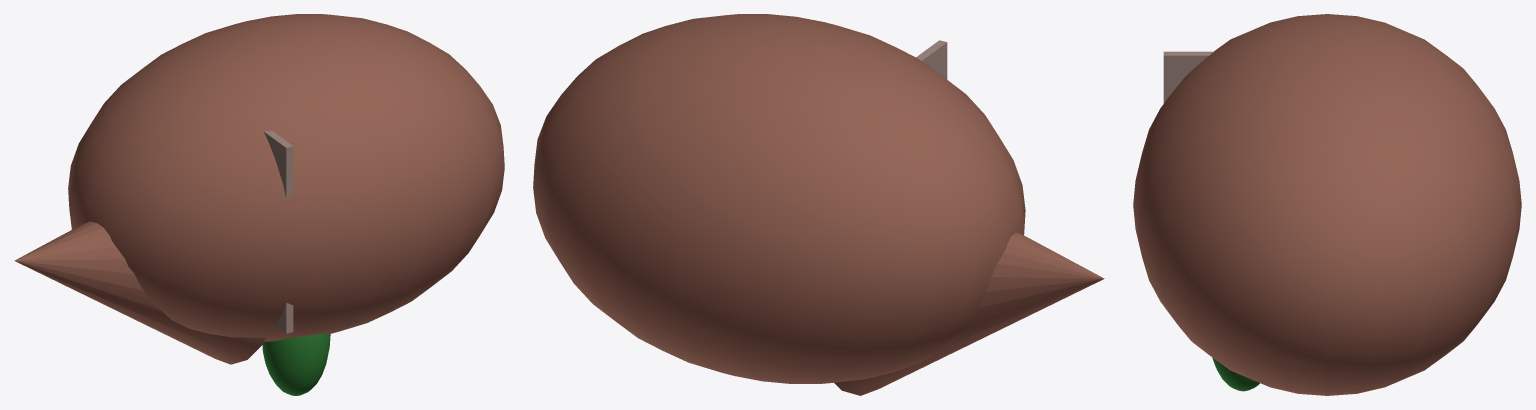
File: liver.glb
3 renders of one model, left to right at view 1: azimuth 30°, elevation 25°; view 2: azimuth 150°, elevation 25°; view 3: azimuth 270°, elevation 25°, orthographic. The views are drawn at different scales.
Visible parts, largest first — view 1: HumanLiver; view 2: HumanLiver; view 3: HumanLiver.
Part boxes in pixels (left/top/right/bottom): HumanLiver: left=14, top=14, right=504, bottom=395; HumanLiver: left=533, top=14, right=1104, bottom=395; HumanLiver: left=1133, top=14, right=1521, bottom=395.
Size of the model in its own units: 2.04 by 1.31 by 1.29.
